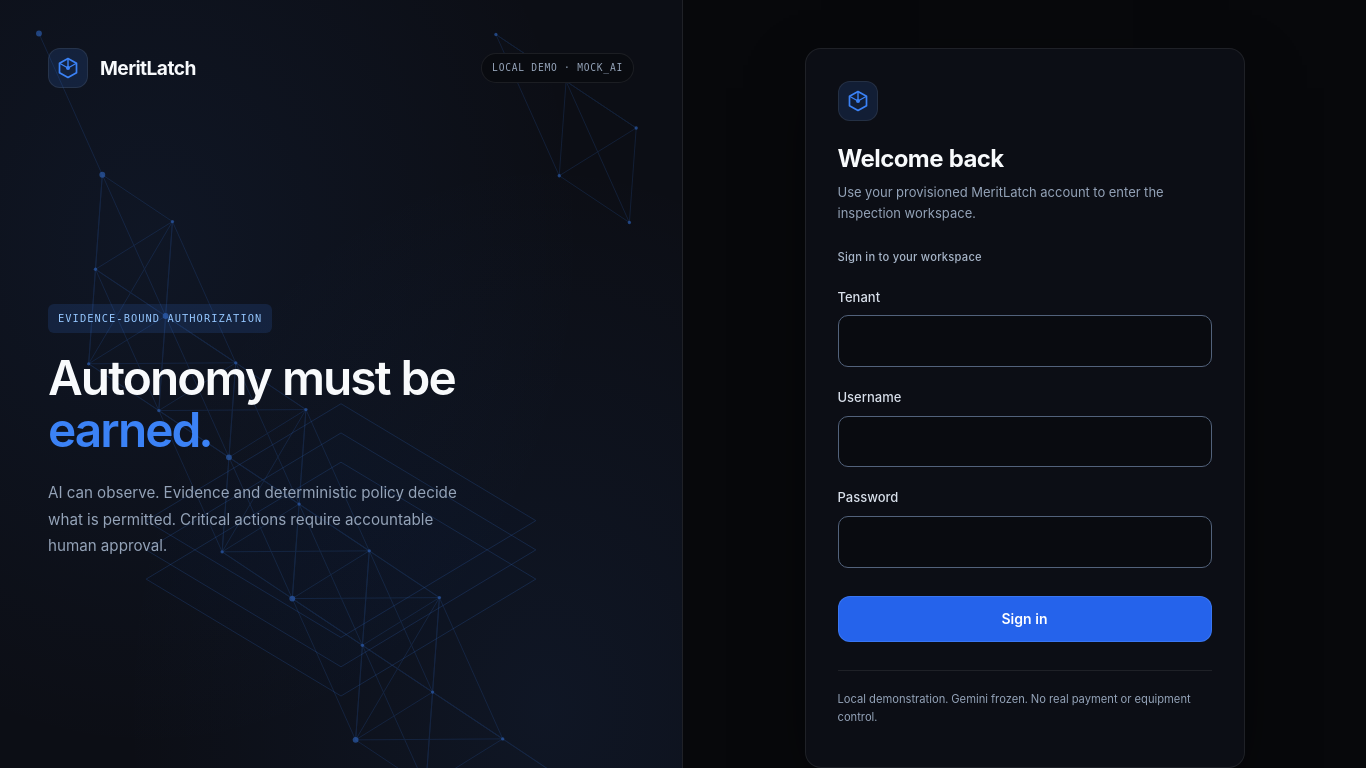
Scenario: routes actual ENGINEER identity
Step 1. Type "a" into the field labelled "Tenant" → coordinates (1024, 341), box [838, 315, 1212, 367]
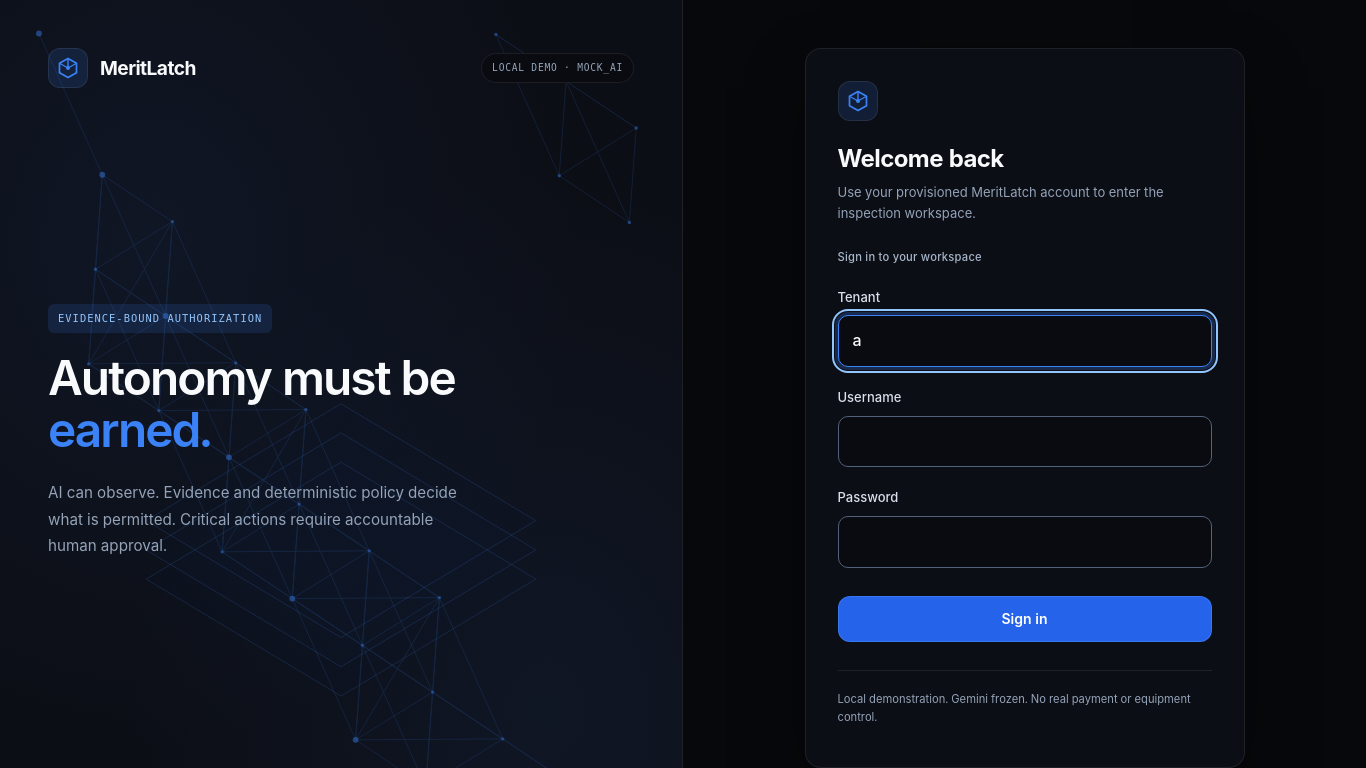
Step 2. Type "fictional" into the field labelled "Username" → coordinates (1024, 442), box [838, 416, 1212, 467]
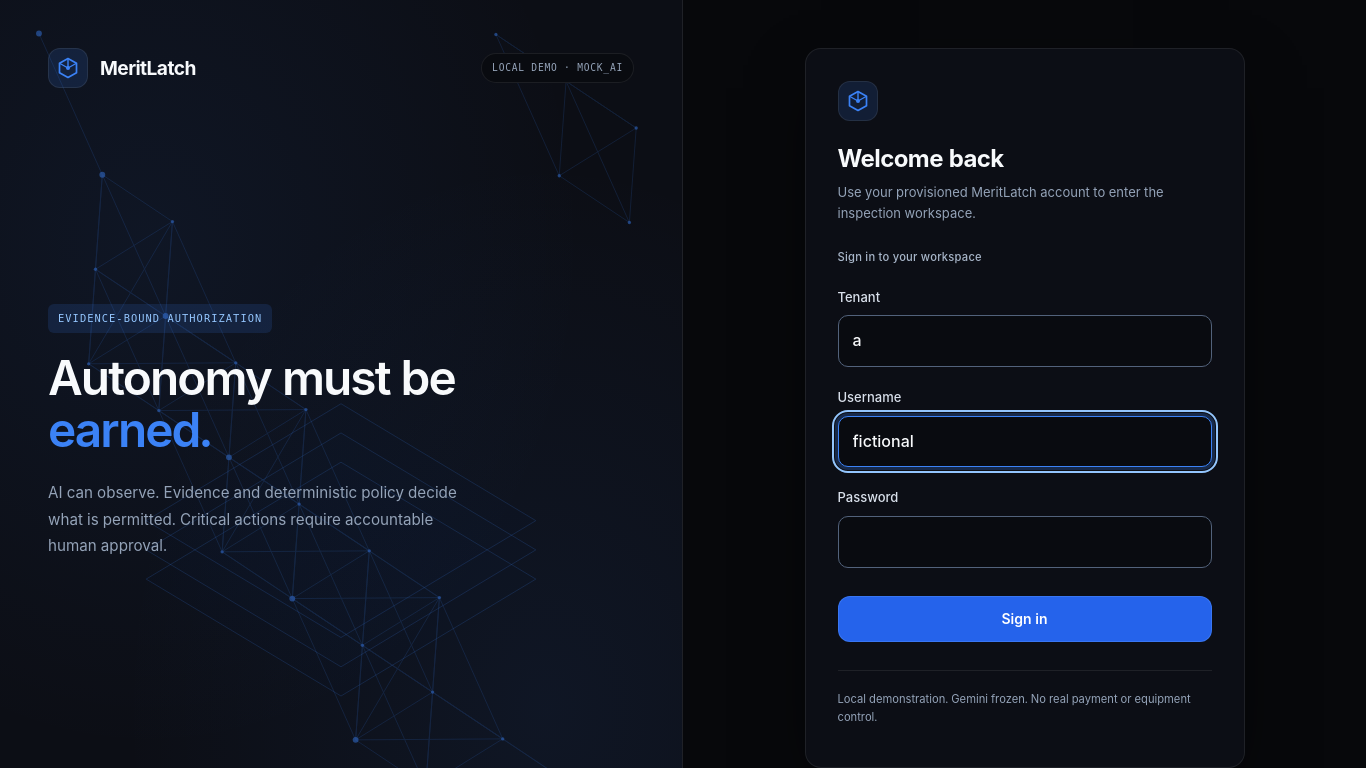
Step 3. Type "fictional-password" into the password field labelled "Password" → coordinates (1024, 542), box [838, 516, 1212, 568]
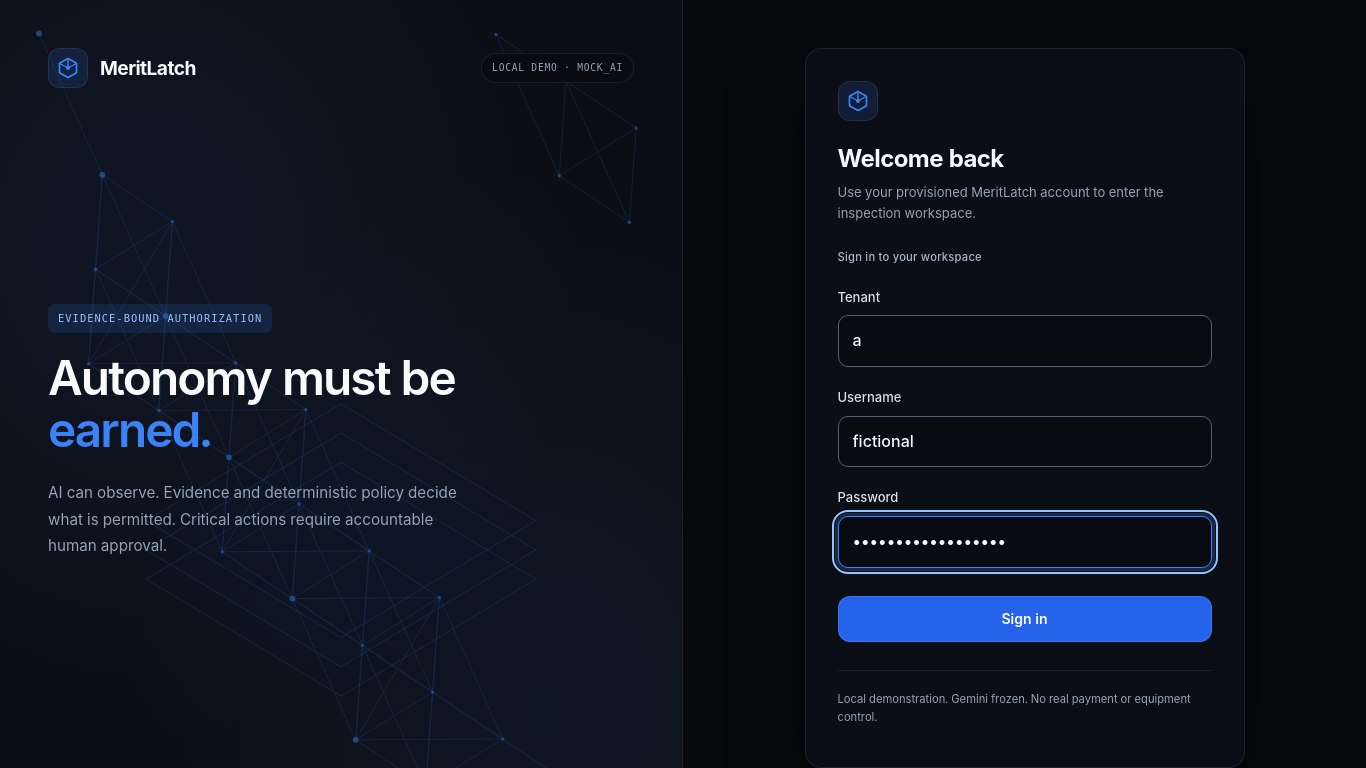
Step 4. Click the button "Sign in" → coordinates (1024, 619), box [838, 596, 1212, 642]
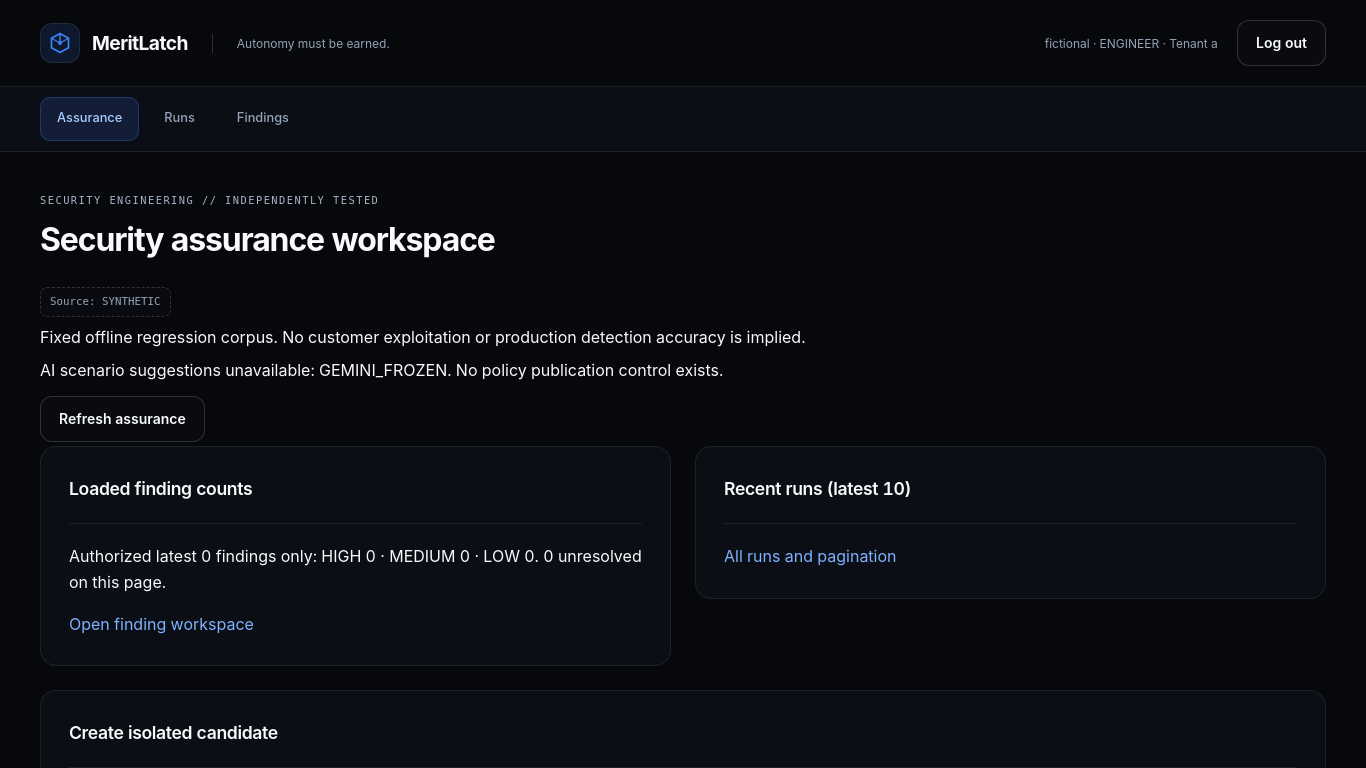
Now the heading "Security assurance workspace" is shown, box [40, 220, 495, 259]
